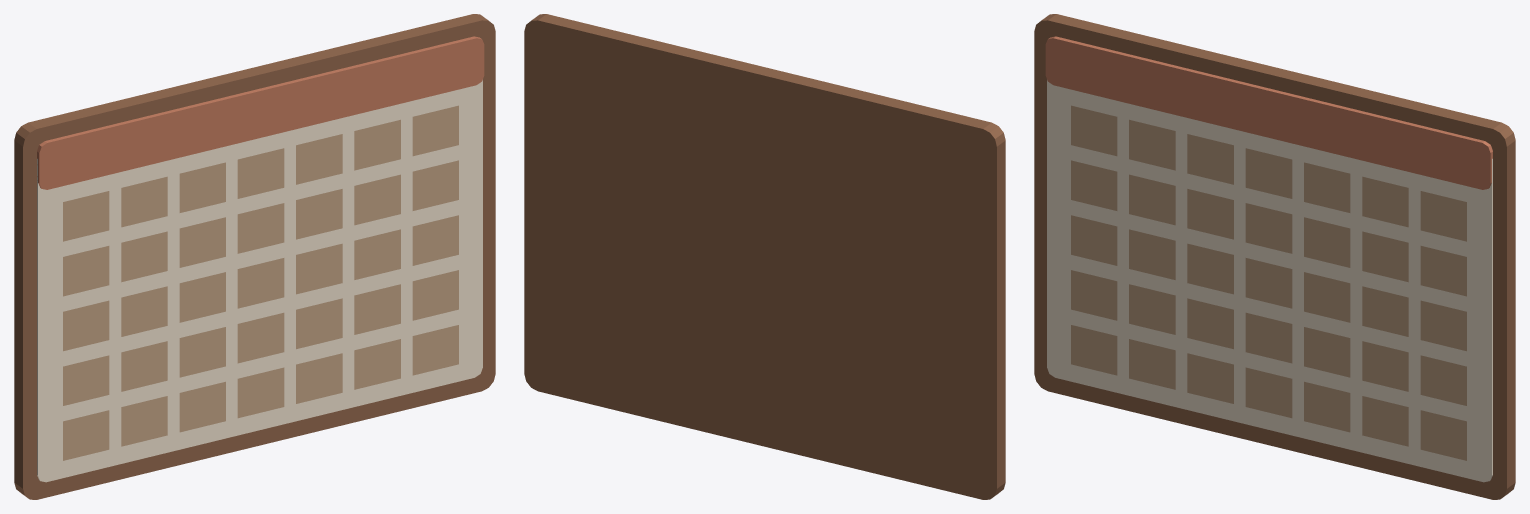
The model's file is kit_wall_calendar_v1.glb.
3 views of the same model, side by side, from view 1: azimuth 30°, elevation 25°; view 2: azimuth 150°, elevation 25°; view 3: azimuth 330°, elevation 25° (orthographic).
Parts seen in each view (by area): view 1: body, days; view 2: body; view 3: body, days.
Boxes of the visible parts, <box> form: body: <box>14,14,495,499</box>; days: <box>63,105,458,460</box>; body: <box>524,14,1005,499</box>; body: <box>1034,14,1515,499</box>; days: <box>1071,105,1466,460</box>.
Size of the model in its own units: 1.2 by 0.9 by 0.05.
